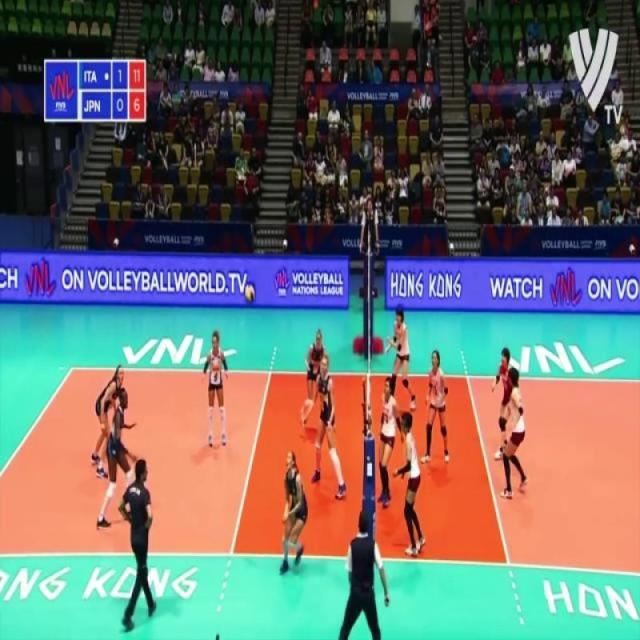volleyball: (244, 284, 256, 302)
